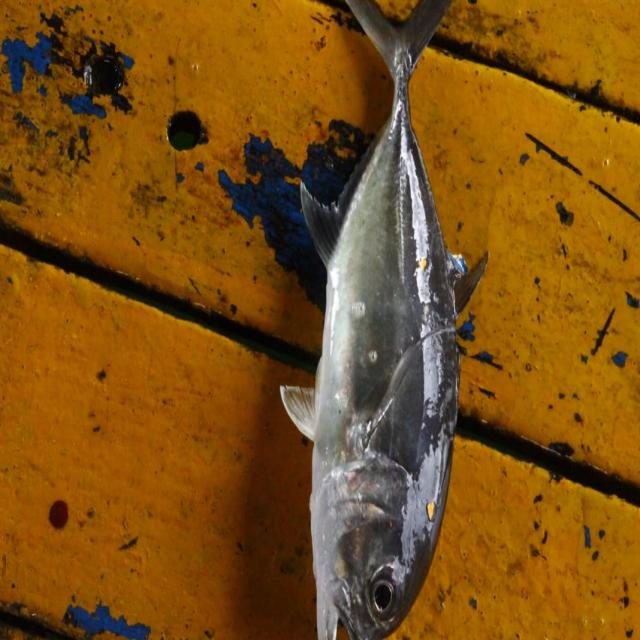ikan: (270, 5, 493, 632)
